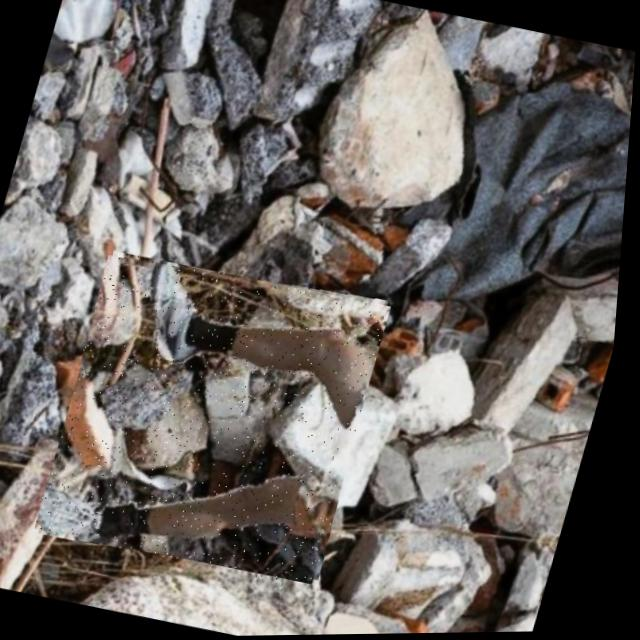Person in Rubble: (36, 245, 400, 590)
